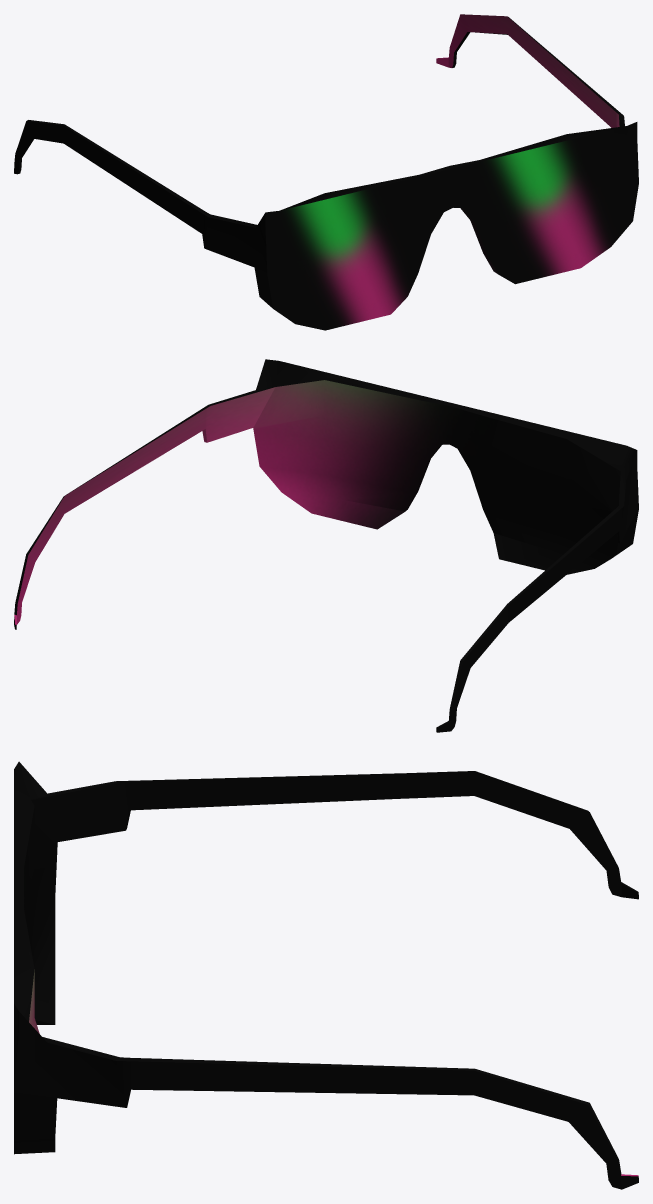
Rendered from melonGlasses.glb.
The picture shows the model from 3 angles, top to bottom: view 1: azimuth 30°, elevation 25°; view 2: azimuth 150°, elevation 25°; view 3: azimuth 270°, elevation 25°; orthographic projection. The views are drawn at different scales.
Parts seen in each view (by area): view 1: Blue Vipers; view 2: Blue Vipers; view 3: Blue Vipers.
Boxes of the visible parts, <box> form: Blue Vipers: <box>14,14,638,330</box>; Blue Vipers: <box>14,359,638,732</box>; Blue Vipers: <box>14,761,638,1189</box>.
Bounding box in the file's own units: 0.2372 × 0.0667 × 0.2092.
2 materials, 1 textured.
